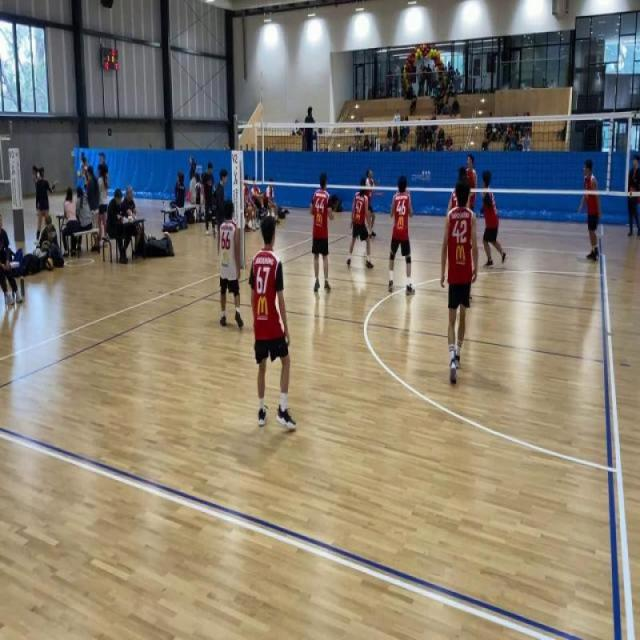volleyball: (46, 257, 54, 272), (163, 230, 170, 238), (76, 170, 82, 178), (147, 233, 153, 240)
